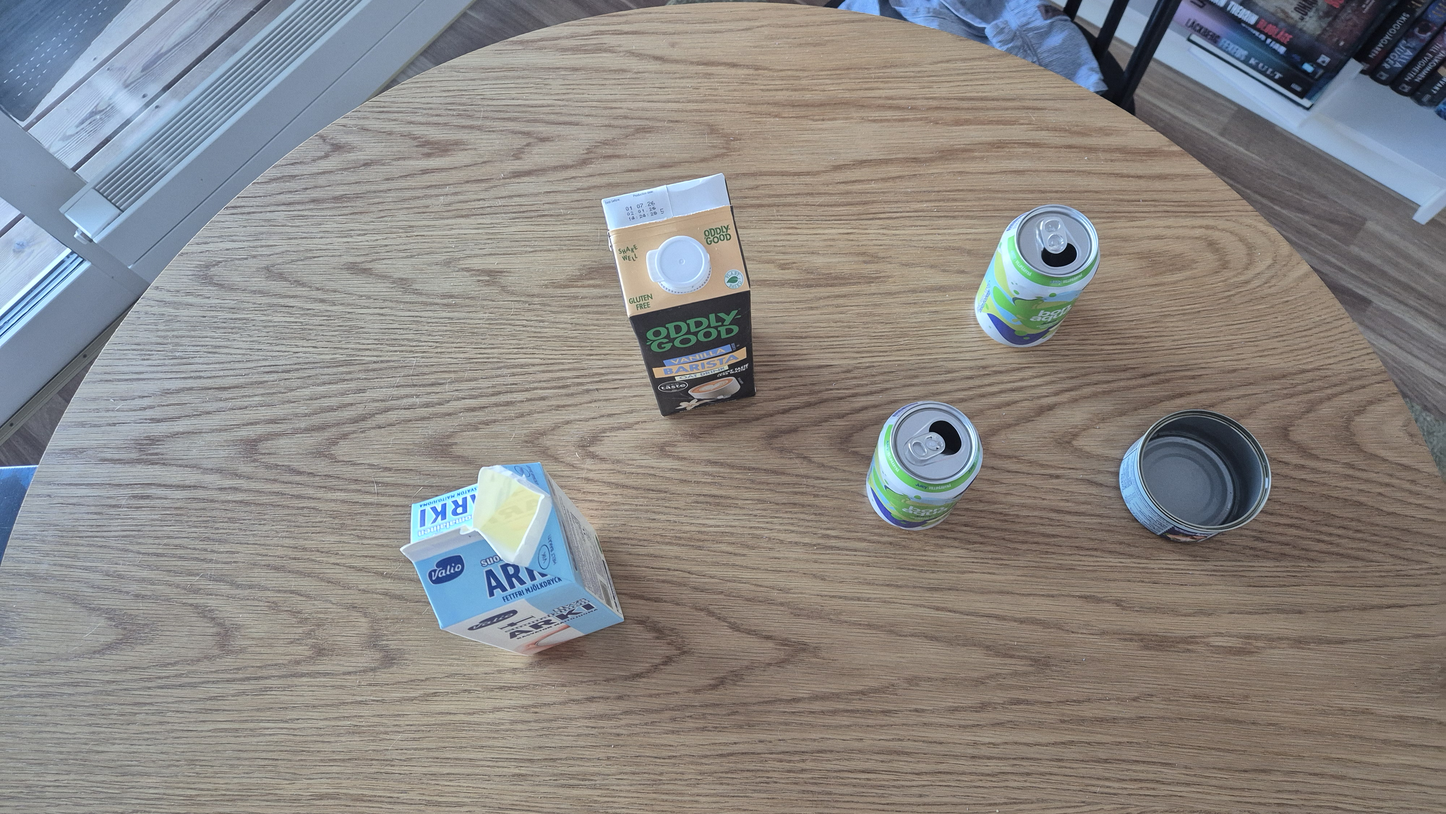Dryckeskartong: (401, 462, 625, 656), (602, 173, 758, 417)
Konservburk: (1119, 410, 1272, 544)
Pantburk: (974, 205, 1101, 348), (866, 401, 983, 531)
